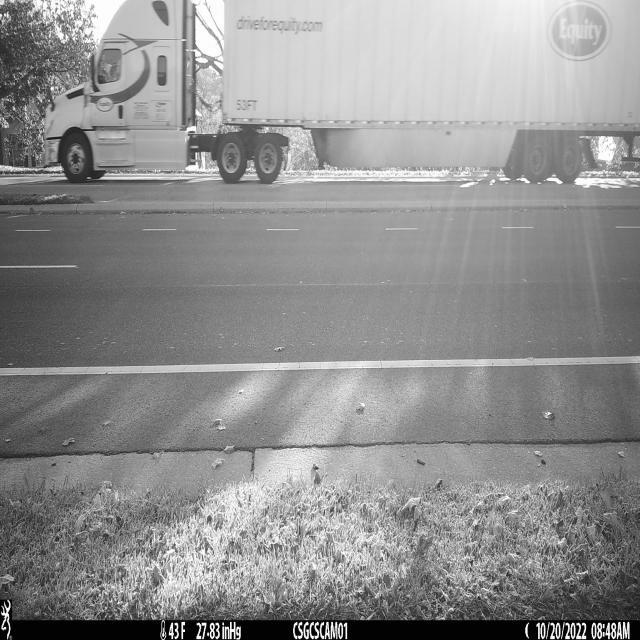Box Truck: (35, 0, 640, 186)
